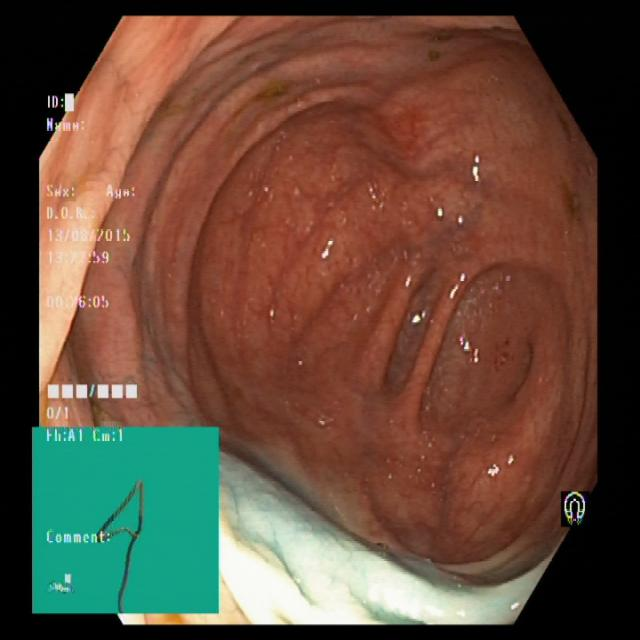normal-cecum: (414, 12, 487, 80), (556, 159, 595, 253), (247, 73, 305, 129)
